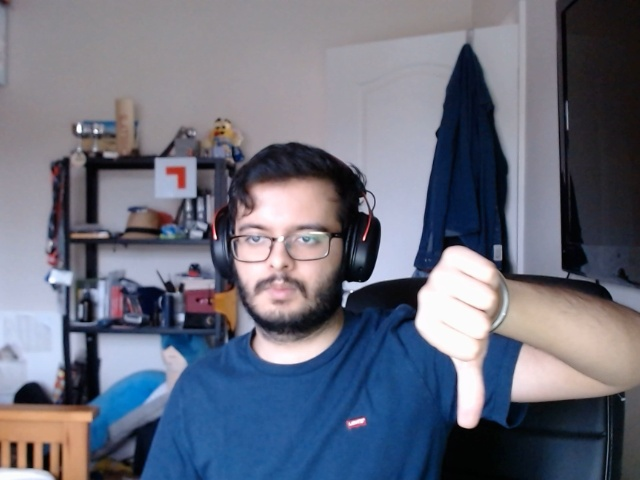Thumbs down: (411, 235, 509, 453)
